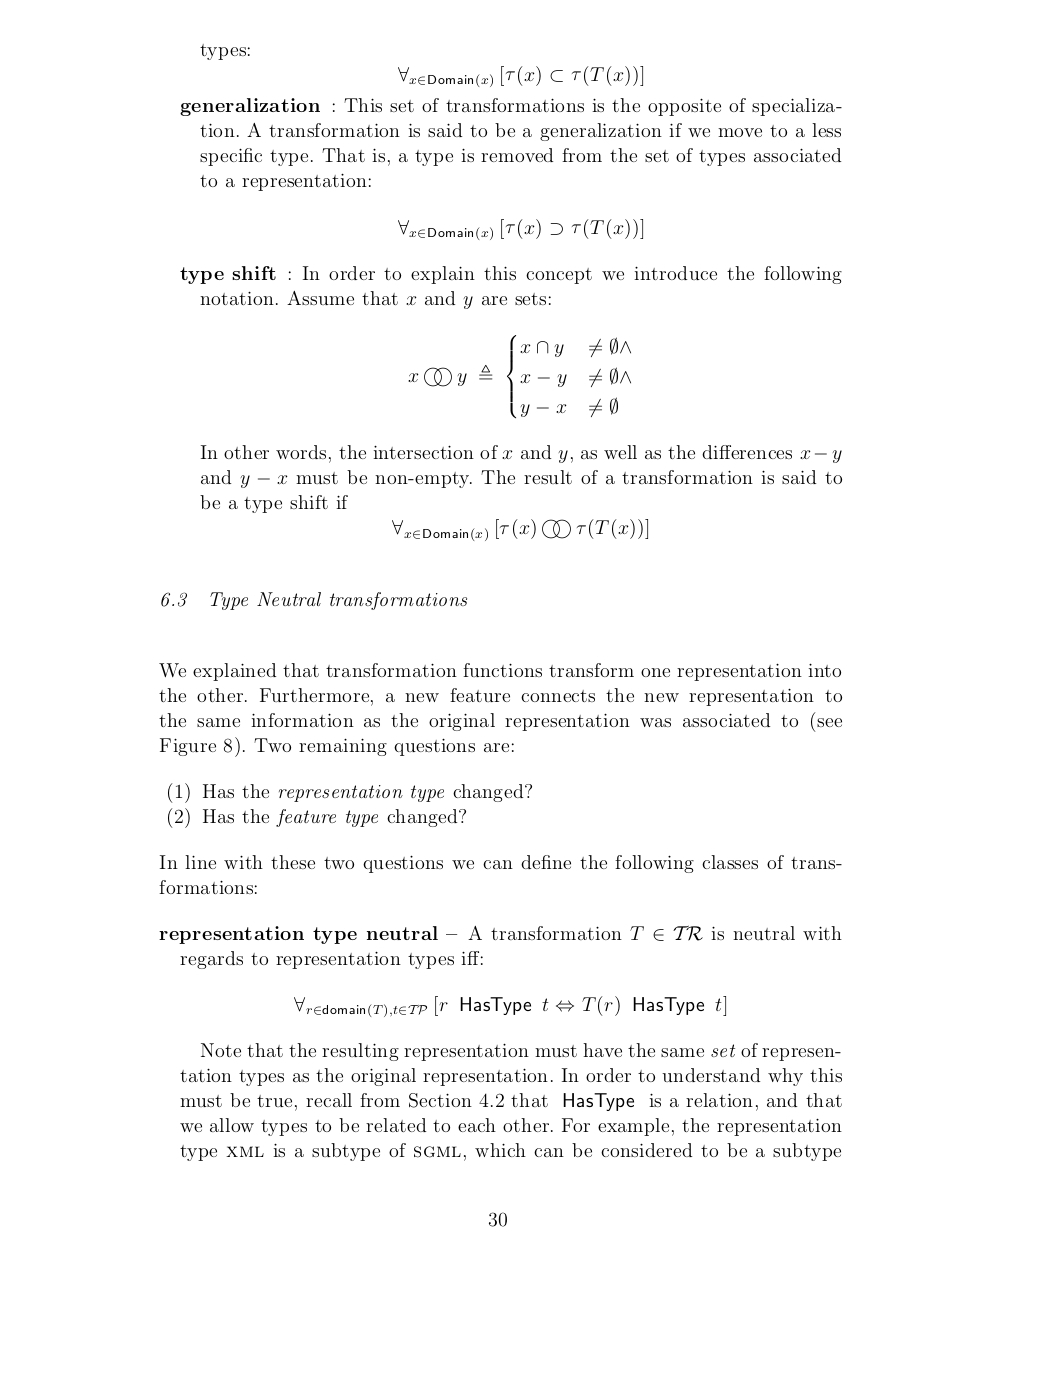formula: (408, 334, 630, 419), (294, 995, 726, 1017), (392, 518, 648, 542), (398, 65, 643, 88), (398, 218, 643, 241)
